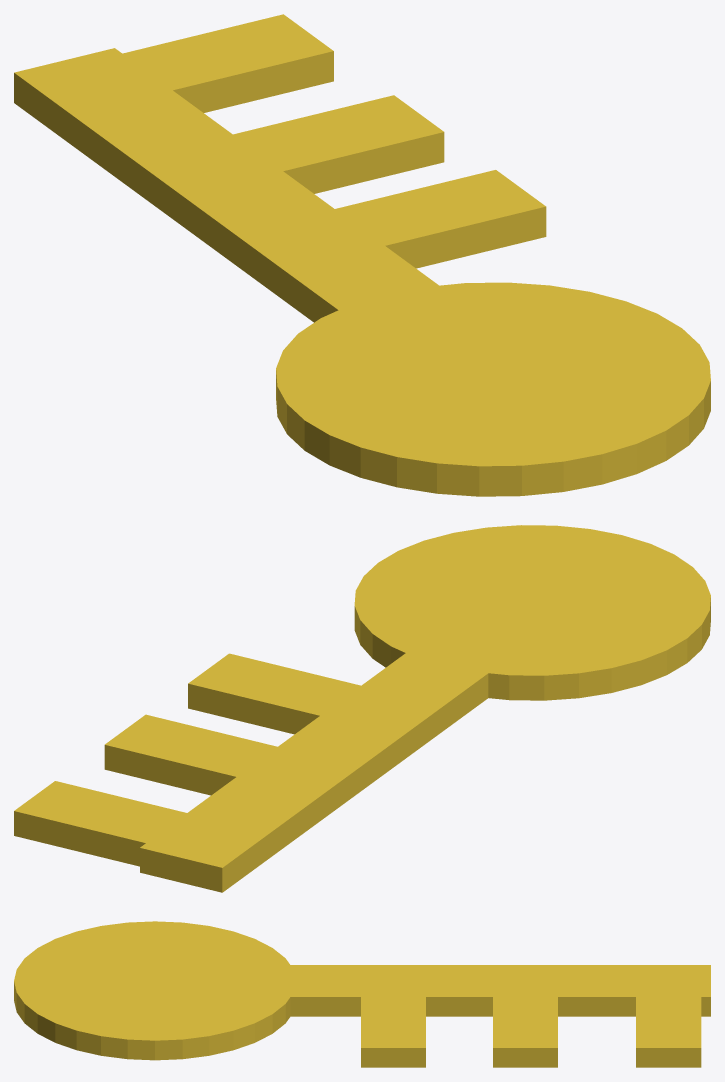
File: simplekey.glb
3 views of the same model, one above another, from view 1: azimuth 30°, elevation 25°; view 2: azimuth 150°, elevation 25°; view 3: azimuth 270°, elevation 25° (orthographic). The views are drawn at different scales.
Visible parts, largest first — view 1: Cylinder; view 2: Cylinder; view 3: Cylinder.
Part boxes in pixels (x1,y1,x2,y2): Cylinder: (14,14,710,496); Cylinder: (14,525,710,892); Cylinder: (14,921,710,1067).
Size of the model in its own units: 1.38 by 0.1 by 3.21.
